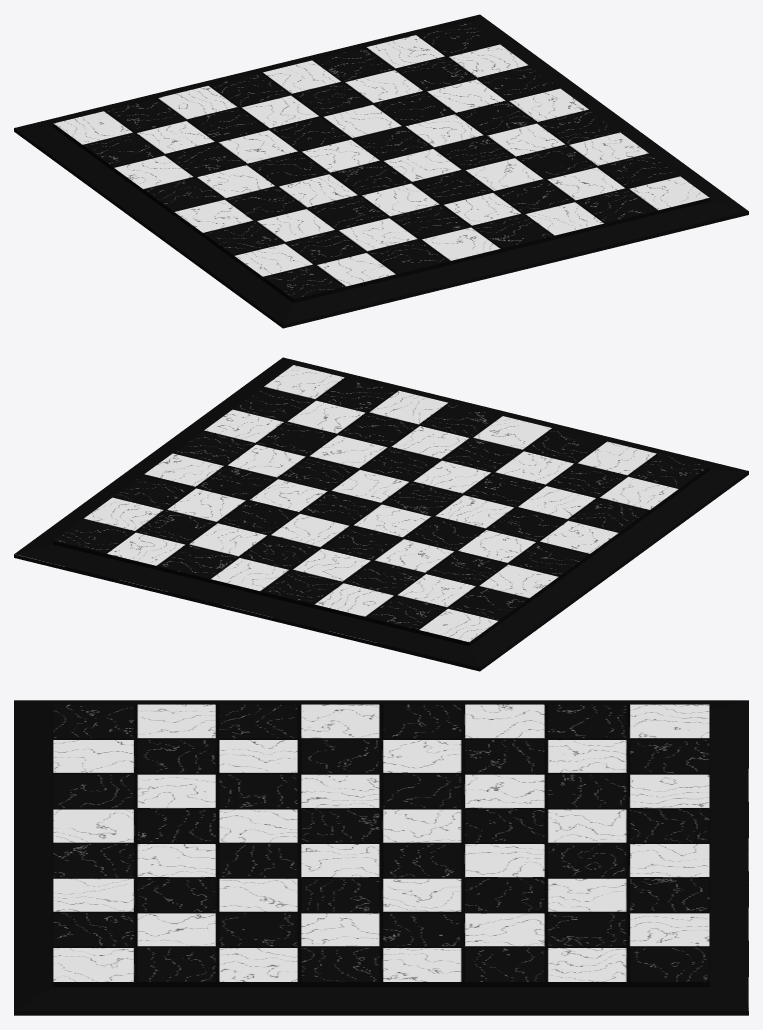
The model's file is ChessBoard.glb.
3 renders of one model, top to bottom at view 1: azimuth 30°, elevation 25°; view 2: azimuth 150°, elevation 25°; view 3: azimuth 270°, elevation 25°, orthographic. The views are drawn at different scales.
Parts seen in each view (by area): view 1: Board; view 2: Board; view 3: Board.
Boxes of the visible parts, left/top/right/bottom form: Board: left=14, top=14, right=748, bottom=328; Board: left=14, top=357, right=748, bottom=671; Board: left=14, top=700, right=748, bottom=1015.
Size of the model in its own units: 2.24 by 0.0579 by 2.24.
1 material, 1 textured.
